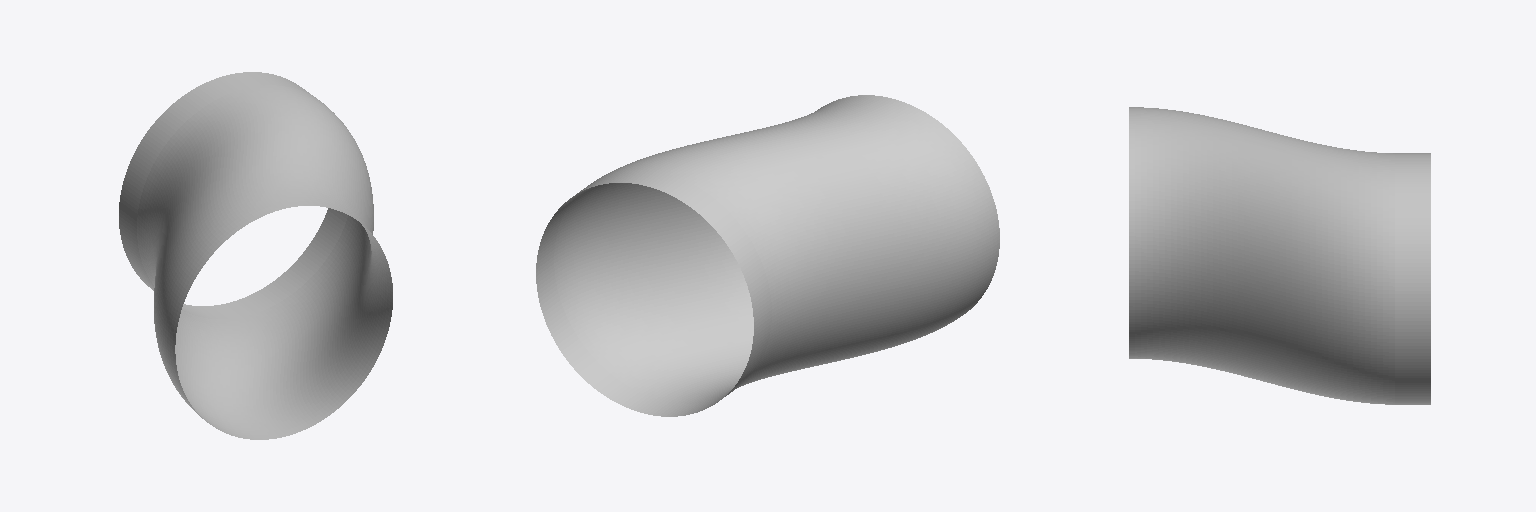
File: tunnel_base_rightTurn.obj
The picture shows the model from 3 angles: view 1: azimuth 30°, elevation 25°; view 2: azimuth 150°, elevation 25°; view 3: azimuth 270°, elevation 25°; orthographic projection.
Visible parts, largest first — view 1: pCylinder1; view 2: pCylinder1; view 3: pCylinder1.
Part boxes in pixels (x1,y1,x2,y2): pCylinder1: (119,72,392,439); pCylinder1: (536,95,999,416); pCylinder1: (1129,107,1430,404).
Bounding box in the file's own units: 6.11 × 4.26 × 5.13.